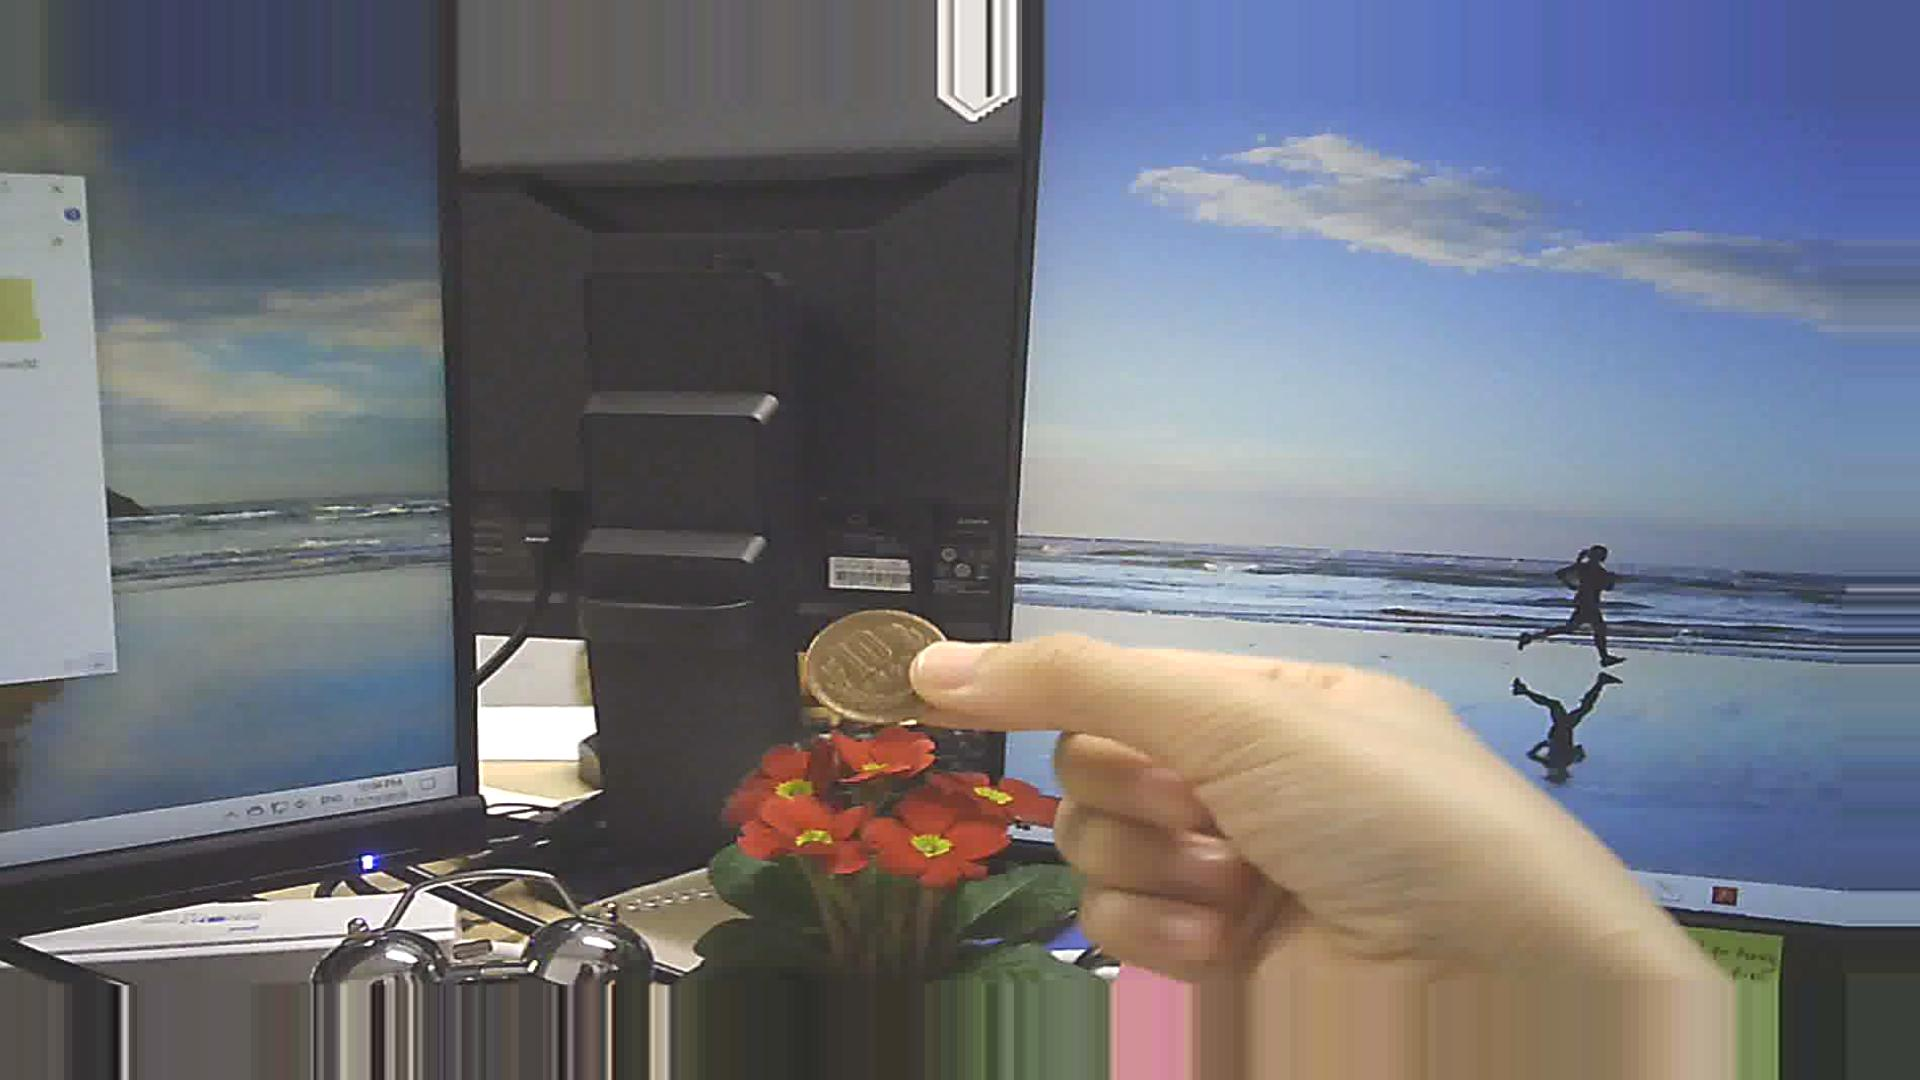10 Yen: (802, 599, 953, 721)
